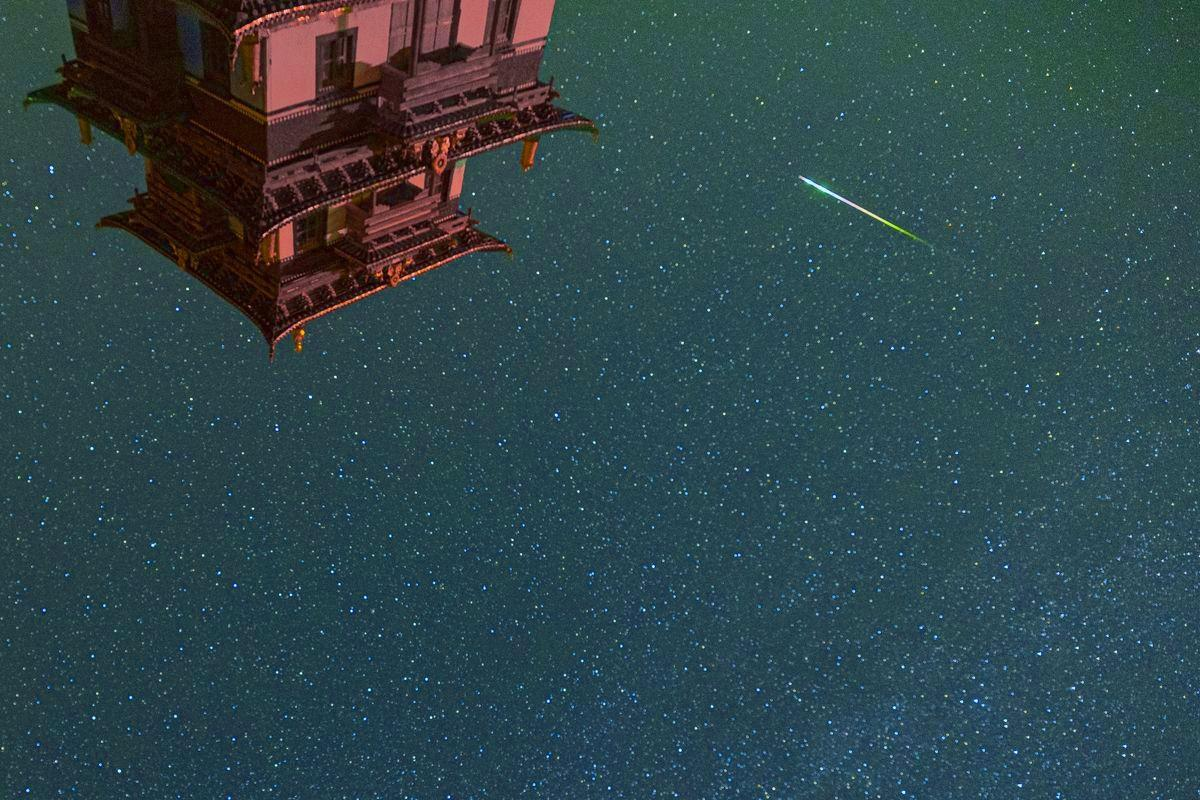meteorite: (766, 167, 957, 262)
